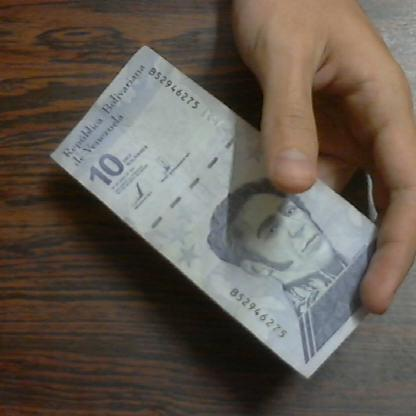ten-front-vef: (44, 34, 416, 386)
